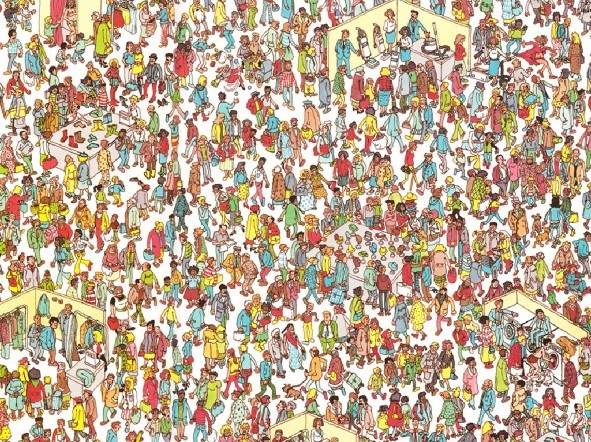waldo: (95, 82, 110, 113)
